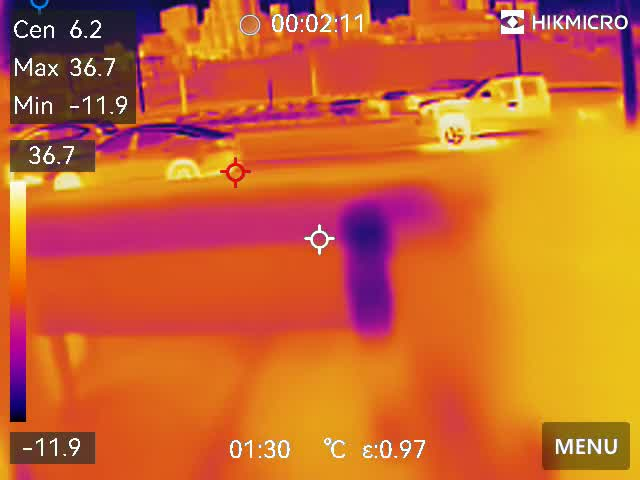largeCar: (10, 118, 118, 158)
lightTruck: (417, 70, 627, 148)
smallCar: (45, 124, 244, 181)
